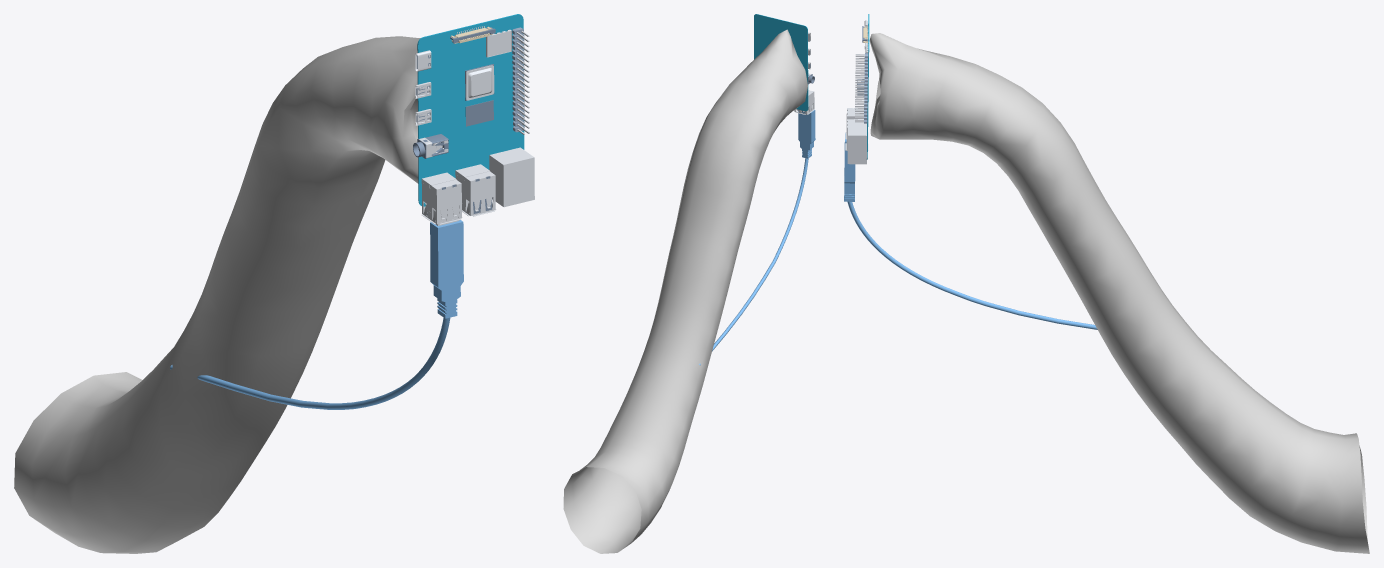
File: circuit2.glb
3 renders of one model, left to right at view 1: azimuth 30°, elevation 25°; view 2: azimuth 150°, elevation 25°; view 3: azimuth 270°, elevation 25°, orthographic. The views are drawn at different scales.
Size of the model in its own units: 24.32 by 119 by 108.
